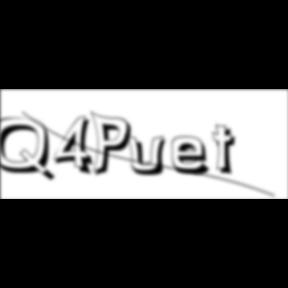4: (53, 115, 100, 179)
P: (90, 110, 138, 180)
Q: (0, 117, 58, 184)
e: (171, 135, 217, 178)
t: (212, 124, 243, 179)
u: (125, 132, 173, 178)
